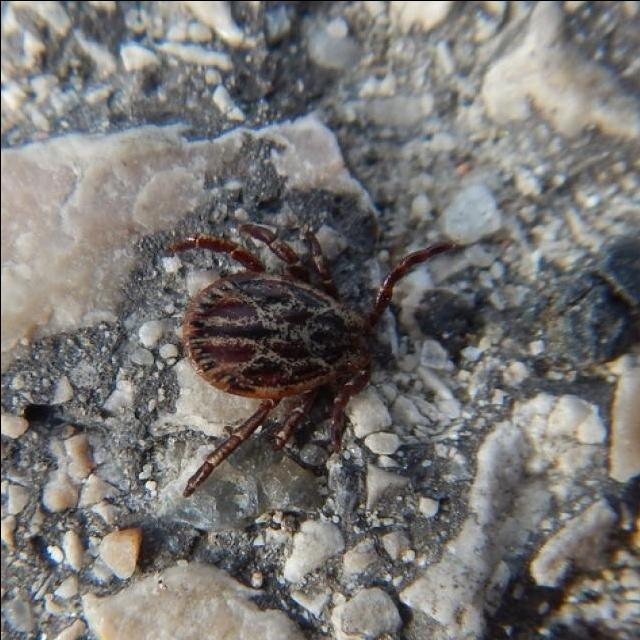Dermacentor Reticulatus-M: (164, 224, 448, 498)
